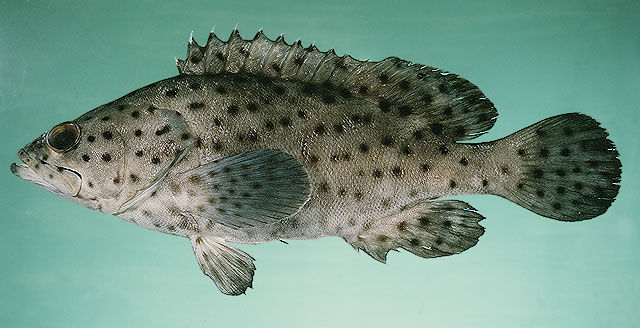fish: (10, 21, 623, 296)
